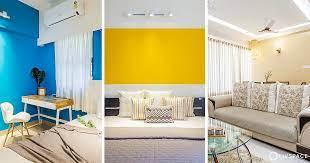bed: (104, 90, 205, 163), (1, 112, 104, 163)
chair: (0, 100, 30, 145)
fan: (246, 18, 285, 38)
light: (149, 6, 180, 22), (126, 6, 149, 21), (274, 37, 284, 56)
sofa: (210, 80, 310, 150)
table: (208, 118, 255, 163), (20, 92, 73, 126)
